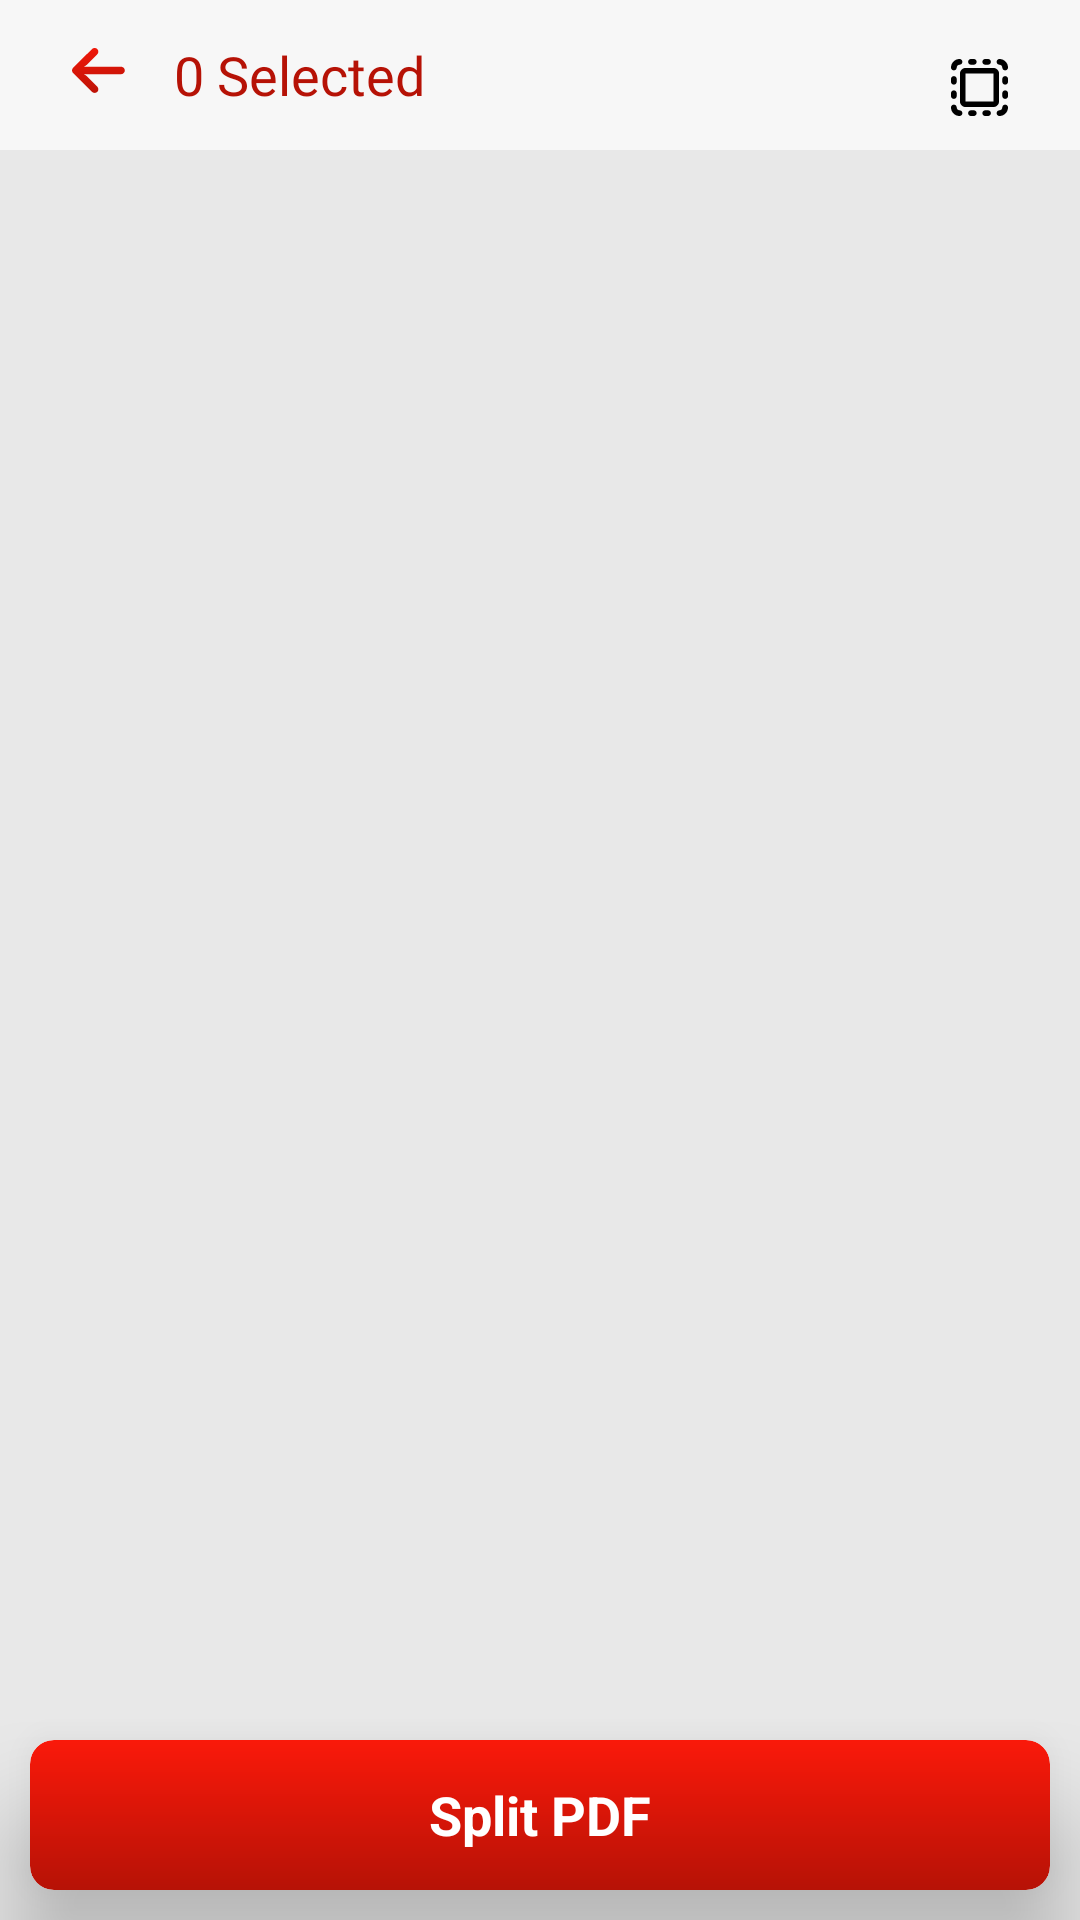

Locate icon controls on the screen. Image size 1080px×1920px, boxes as bbox=[x1, y1, x2, y2].
backimg: bbox=[72, 48, 125, 93]
selectall: bbox=[951, 59, 1008, 116]
